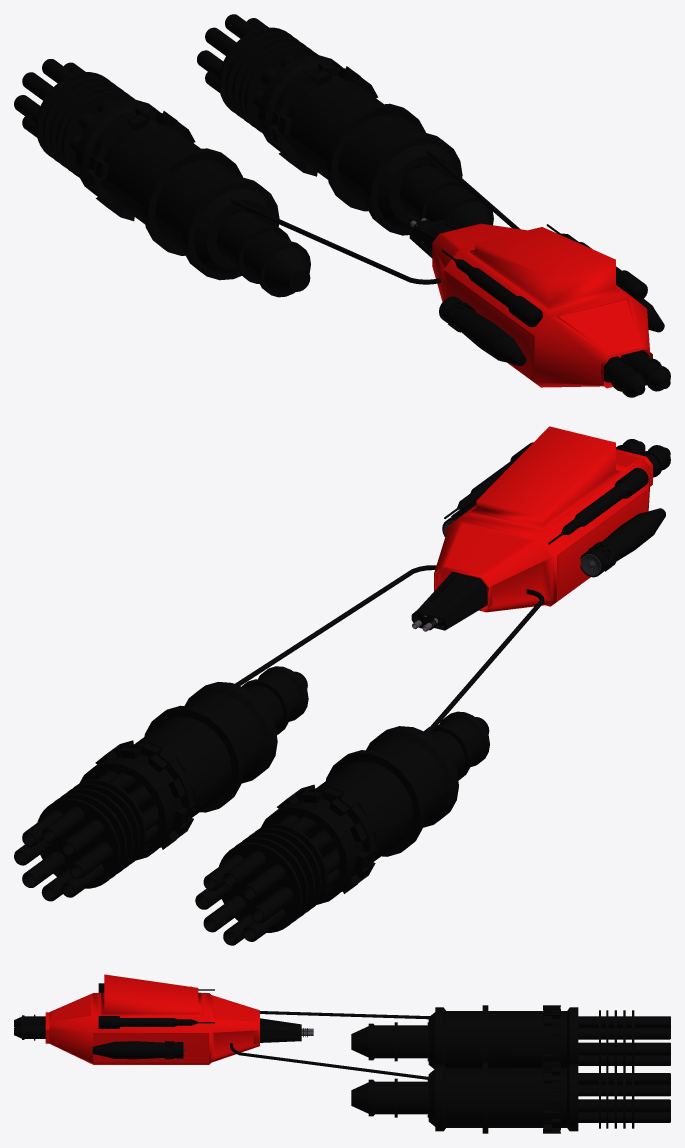
File: etstes.fbx
The picture shows the model from 3 angles, top to bottom: view 1: azimuth 30°, elevation 25°; view 2: azimuth 150°, elevation 25°; view 3: azimuth 270°, elevation 25°; orthographic projection. The views are drawn at different scales.
Visible parts, largest first — view 1: polySurface113, polySurface145, polySurface129, polySurface148, polySurface147, polySurface163, polySurface164, polySurface122, polySurface138, polySurface165, polySurface153, polySurface152 (+17 smaller); view 2: polySurface113, polySurface129, polySurface145, polySurface155, polySurface147, polySurface148, polySurface144, polySurface128, polySurface163, polySurface164, polySurface146, polySurface118 (+19 smaller); view 3: polySurface113, polySurface129, polySurface145, polySurface148, polySurface147, polySurface151, polySurface136, polySurface115, polySurface120, polySurface117, polySurface133, polySurface154 (+8 smaller).
Boxes of the visible parts, x1,y1,x2,y2 form: polySurface113: (432,223,652,388); polySurface145: (75,99,279,280); polySurface129: (258,55,462,235); polySurface148: (212,208,310,297); polySurface147: (395,162,493,228); polySurface163: (439,296,526,366); polySurface164: (441,249,542,327); polySurface122: (244,46,317,132); polySurface138: (62,91,134,177); polySurface165: (230,198,440,284); polySurface153: (601,356,645,397); polySurface152: (620,350,670,391); polySurface113: (434,426,652,612); polySurface129: (79,682,277,860); polySurface145: (261,726,458,904); polySurface155: (411,571,487,630); polySurface147: (241,666,308,735); polySurface148: (424,711,489,780); polySurface144: (219,842,301,932); polySurface128: (37,798,120,888); polySurface163: (580,508,665,577); polySurface164: (548,467,648,544); polySurface146: (235,565,436,685); polySurface118: (61,784,152,856); polySurface113: (45,974,259,1064); polySurface129: (428,1062,578,1133); polySurface145: (428,1005,578,1069); polySurface148: (351,1022,428,1061); polySurface147: (351,1078,428,1117); polySurface151: (92,1041,183,1059); polySurface136: (578,1028,670,1039); polySurface115: (578,1073,670,1084); polySurface120: (578,1085,670,1096); polySurface117: (578,1101,670,1112); polySurface133: (578,1044,670,1055); polySurface154: (98,1016,214,1028).
Bounding box in the file's own units: 3.34 × 2.08 × 10.62.
